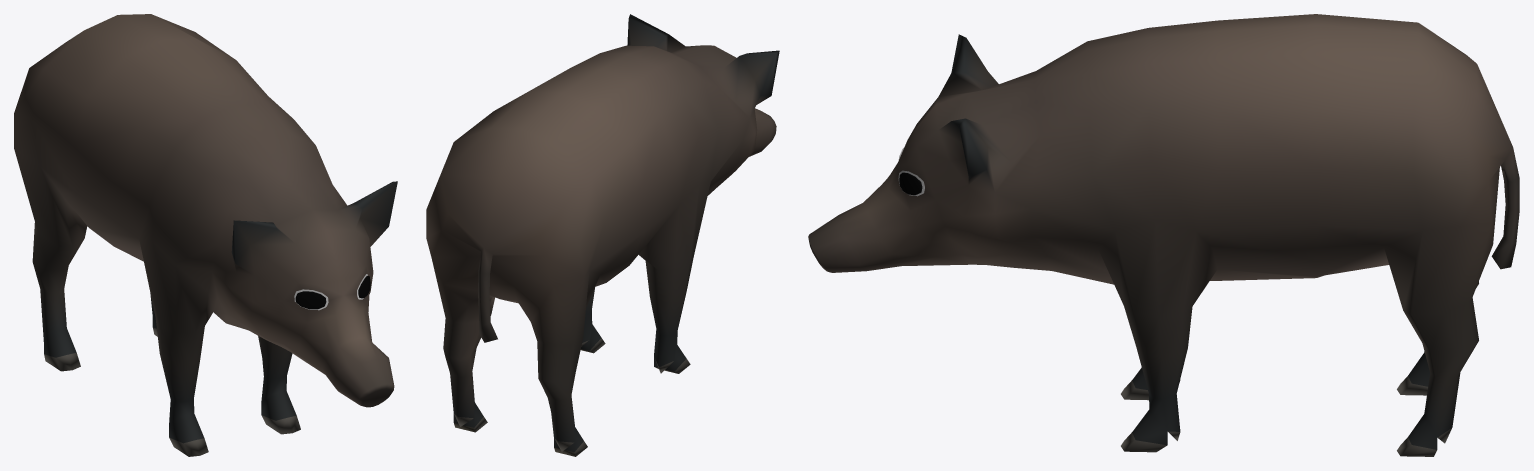
3 renders of one model, left to right at view 1: azimuth 30°, elevation 25°; view 2: azimuth 150°, elevation 25°; view 3: azimuth 270°, elevation 25°, orthographic. The views are drawn at different scales.
Parts seen in each view (by area): view 1: base.042; view 2: base.042; view 3: base.042.
Boxes of the visible parts, <box> form: base.042: <box>14,14,397,456</box>; base.042: <box>426,14,779,456</box>; base.042: <box>808,14,1519,456</box>.
Bounding box in the file's own units: 0.1648 × 0.3061 × 0.5.
